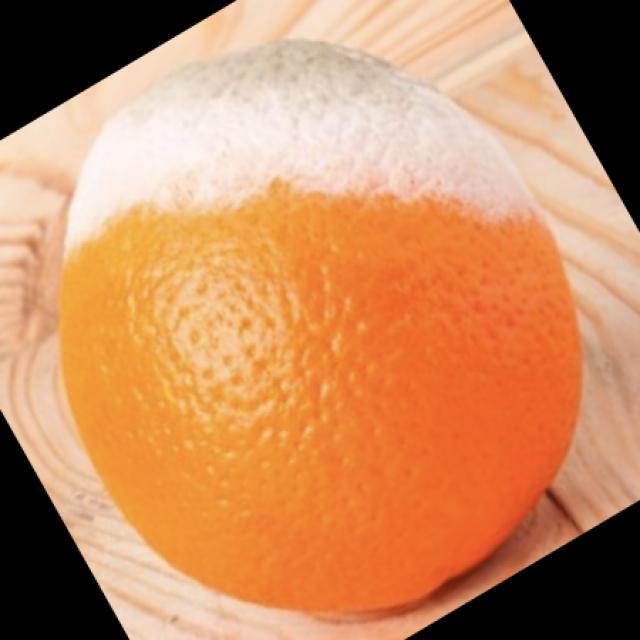sedikit_busuk: (62, 48, 569, 602)
